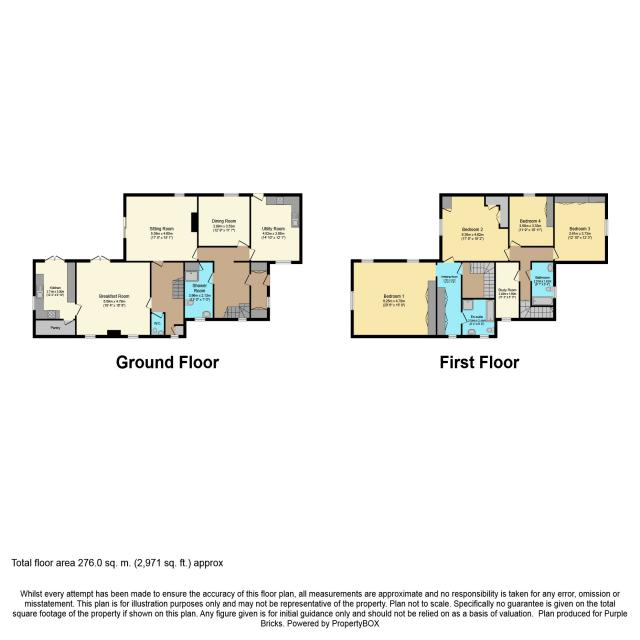DOOR: (513, 269, 521, 282), (243, 273, 251, 286), (253, 193, 264, 202), (262, 274, 270, 286), (191, 248, 199, 260), (525, 269, 532, 282), (510, 240, 521, 248), (237, 240, 248, 248), (461, 312, 468, 324), (456, 263, 463, 275), (443, 256, 455, 263), (503, 248, 510, 260), (207, 272, 214, 284), (145, 297, 152, 309), (75, 304, 82, 316), (152, 261, 164, 268), (249, 248, 256, 260), (553, 247, 559, 260), (152, 312, 163, 319), (63, 319, 74, 326)
DOUBLE DOOR: (44, 255, 65, 263), (90, 255, 111, 263)
ROOM: (351, 259, 438, 339), (75, 255, 152, 339), (123, 193, 199, 268), (439, 193, 510, 263), (553, 193, 608, 264), (249, 193, 303, 265), (33, 255, 82, 326), (197, 193, 251, 248), (508, 193, 555, 248), (494, 261, 521, 321)
SLIDING DOOR: (123, 216, 127, 239)
WINDOW: (604, 219, 609, 237), (275, 260, 292, 265), (350, 291, 354, 311), (439, 219, 443, 236), (223, 193, 239, 197), (194, 317, 206, 322), (84, 334, 96, 339), (127, 334, 139, 339), (32, 296, 36, 311), (406, 259, 420, 263), (501, 317, 512, 322), (553, 286, 557, 299), (361, 259, 374, 263), (523, 193, 536, 197), (479, 334, 489, 339), (266, 296, 270, 308), (448, 334, 457, 339), (170, 334, 179, 339), (174, 193, 185, 197), (238, 318, 247, 322)
